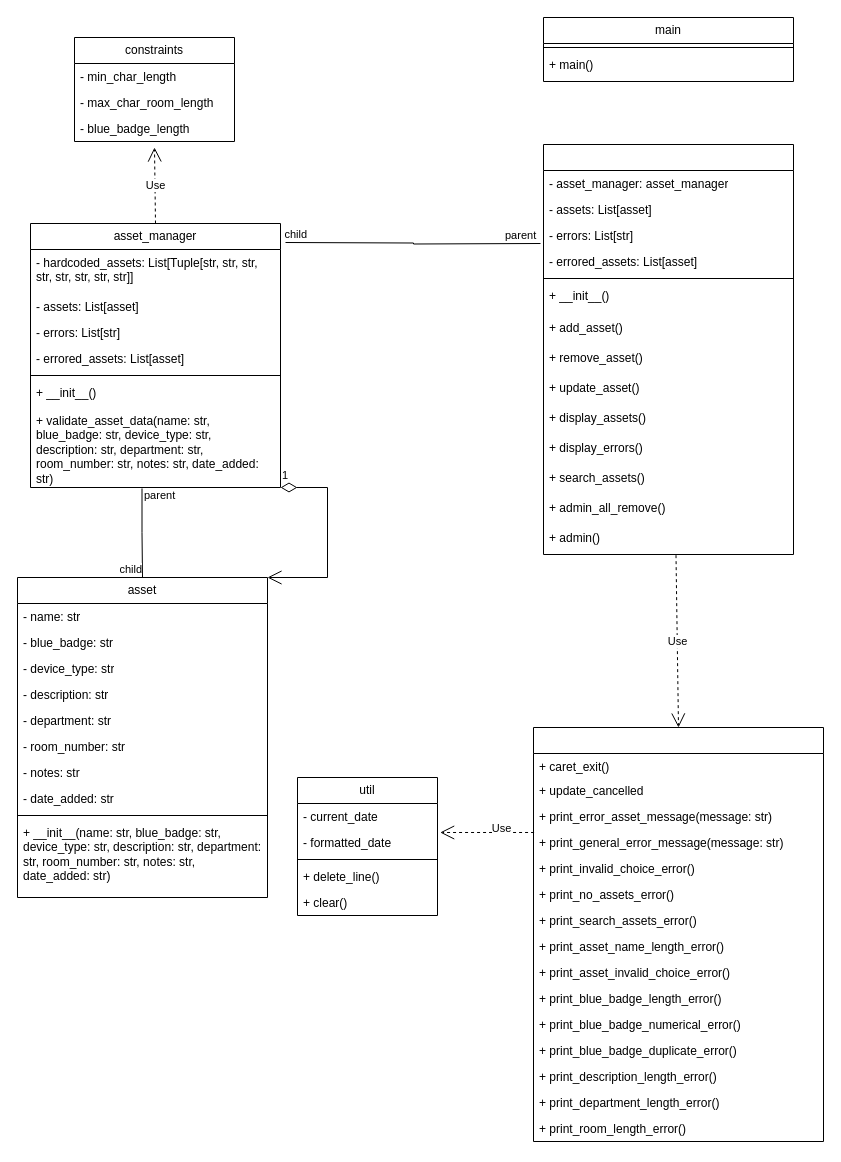
The diagram is 841 pixels wide and 1162 high, and some of its shapes have lost their labels. Here are the shapes that lost their labels. From the top down, the box of each, then its label:
(542, 144, 794, 554): asset_register
(532, 726, 824, 1142): msg
